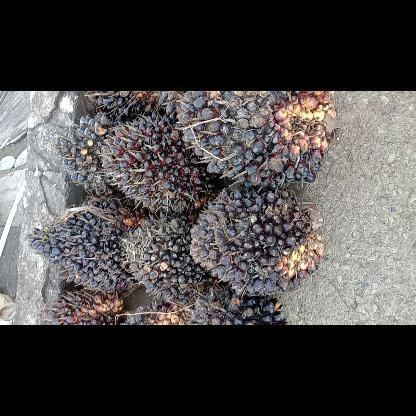TBS mentah: (157, 91, 341, 191), (188, 183, 326, 297), (97, 110, 218, 212), (25, 195, 144, 295), (115, 212, 225, 304), (53, 110, 141, 206)
